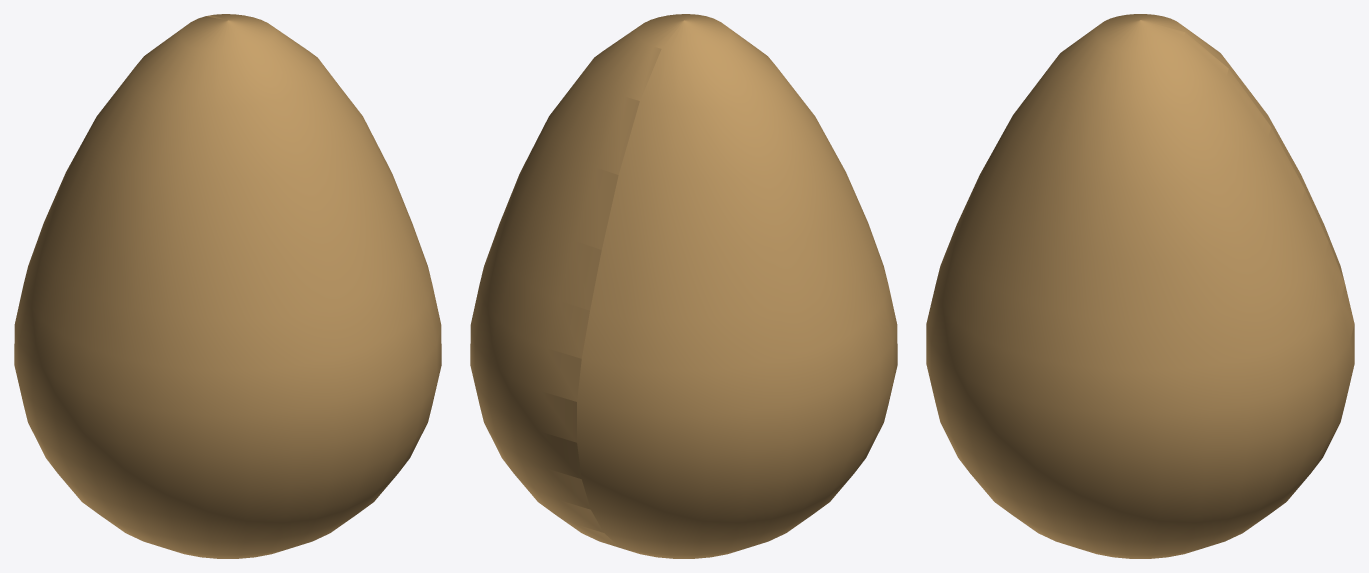
The model's file is egg.fbx.
3 views of the same model, side by side, from view 1: azimuth 30°, elevation 25°; view 2: azimuth 150°, elevation 25°; view 3: azimuth 270°, elevation 25° (orthographic).
Parts seen in each view (by area): view 1: Sphere01; view 2: Sphere01; view 3: Sphere01.
Boxes of the visible parts, x1=… form: Sphere01: x1=14, y1=14, x2=441, y2=558; Sphere01: x1=470, y1=14, x2=897, y2=558; Sphere01: x1=926, y1=14, x2=1354, y2=558.
Size of the model in its own units: 85.59 by 115 by 86.06.
